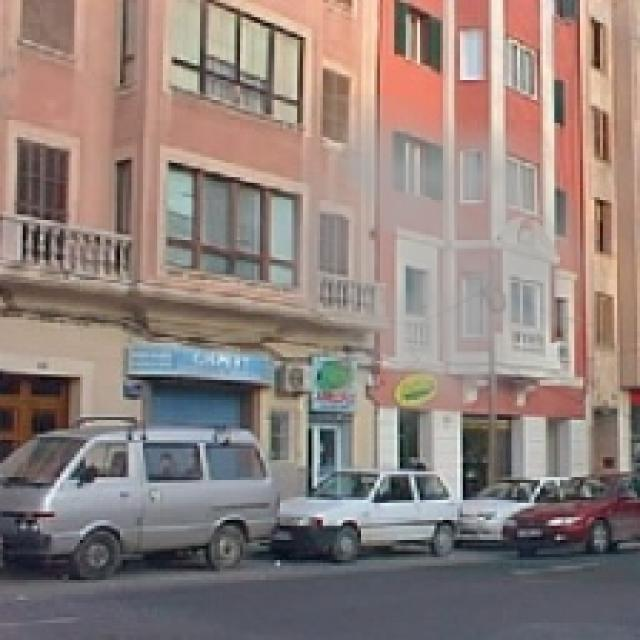Smoke: (246, 94, 623, 469)
